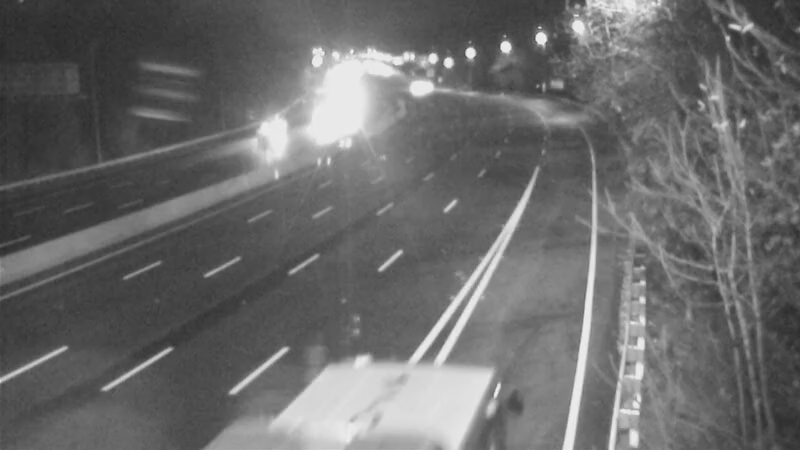vehicle: (244, 97, 294, 147), (302, 105, 352, 155)
